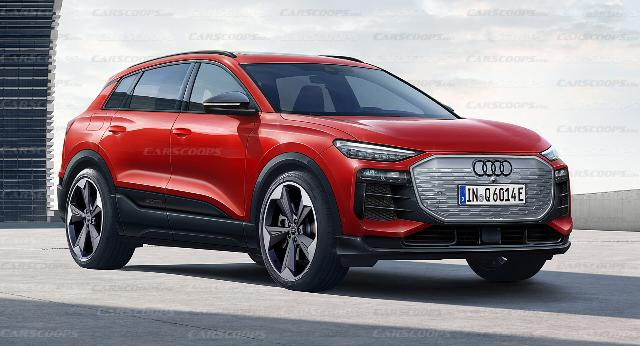audi: (56, 50, 574, 292)
